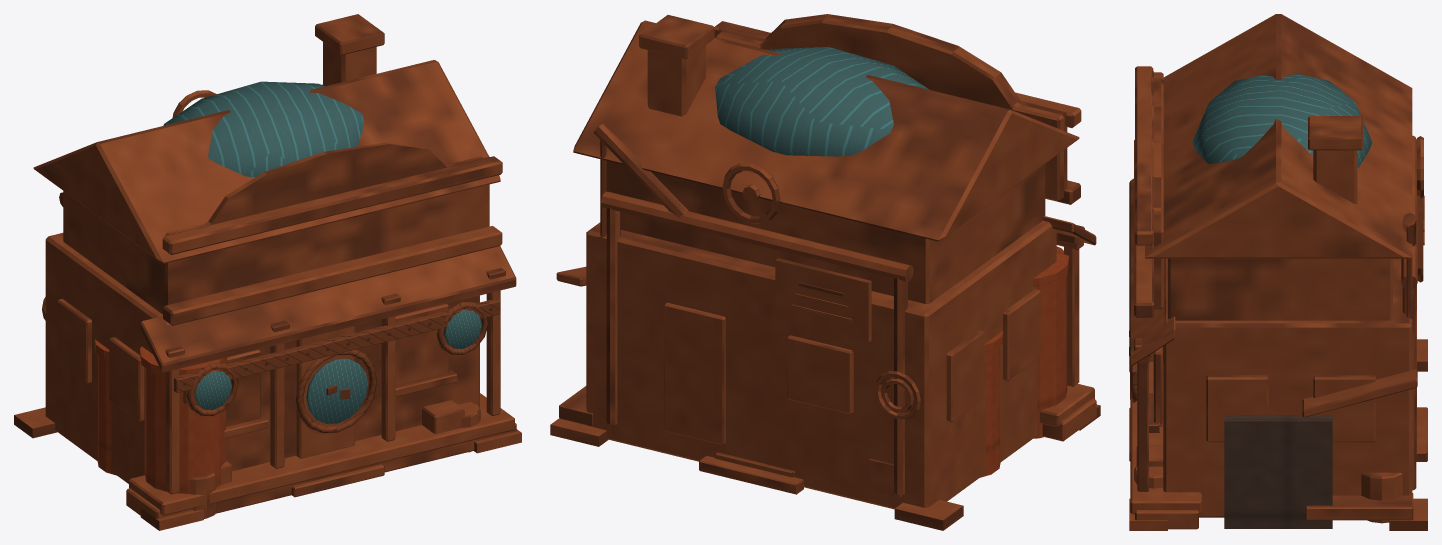
The model's file is general-store.e9.glb.
The picture shows the model from 3 angles, left to right: view 1: azimuth 30°, elevation 25°; view 2: azimuth 150°, elevation 25°; view 3: azimuth 270°, elevation 25°; orthographic projection. The views are drawn at different scales.
Visible parts, largest first — view 1: GeneralStoreE9SeedVault; view 2: GeneralStoreE9SeedVault; view 3: GeneralStoreE9SeedVault.
Boxes of the visible parts, <box> form: GeneralStoreE9SeedVault: <box>14,14,521,530</box>; GeneralStoreE9SeedVault: <box>550,14,1100,530</box>; GeneralStoreE9SeedVault: <box>1129,14,1427,530</box>.
Bounding box in the file's own units: 4.7 × 4.44 × 3.26.
1 material, 1 textured.
